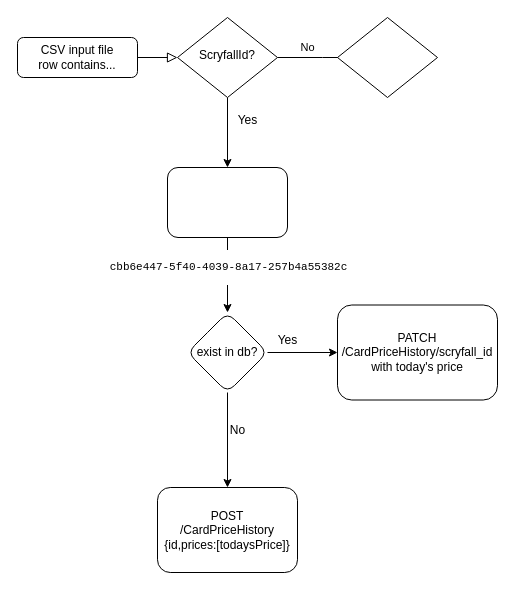
Image size: 515x590. Some labels were removed from this diagram. Each missing label, with the centre of its shape:
foreach scryfallId: point 227,202
Set and cn?: point 387,57
